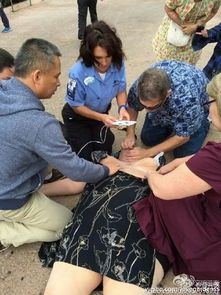falling: (25, 128, 174, 295)
